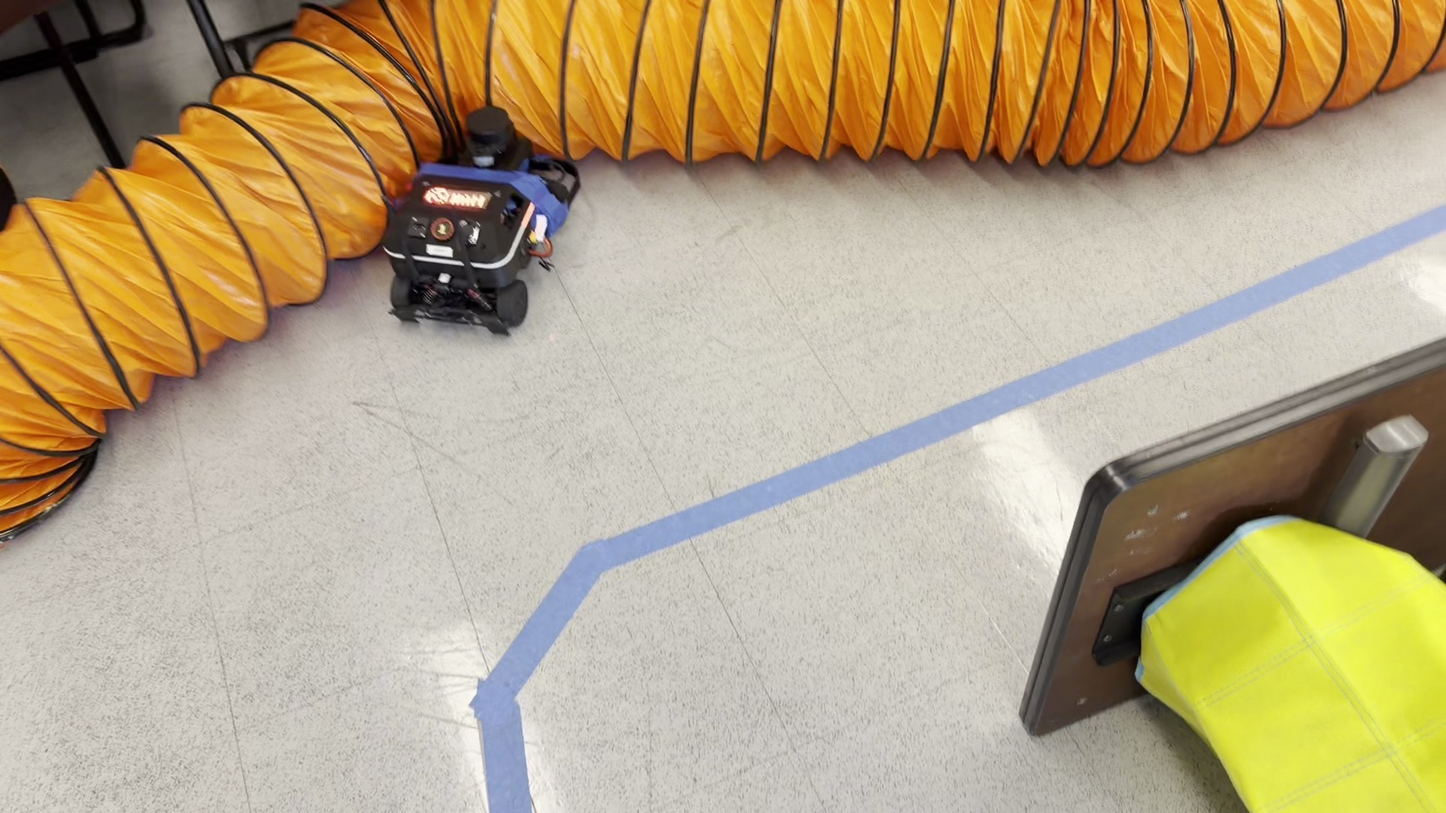racecar: (380, 100, 582, 337)
